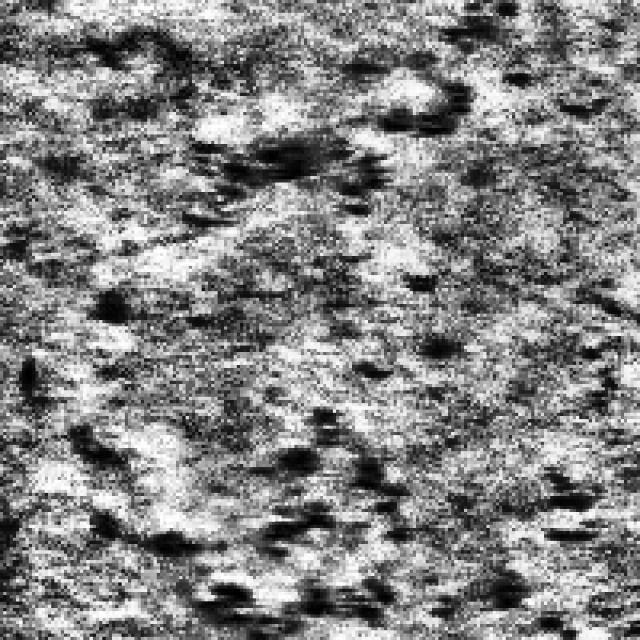Crazing: (153, 0, 512, 237), (90, 394, 403, 634), (413, 442, 605, 630)
